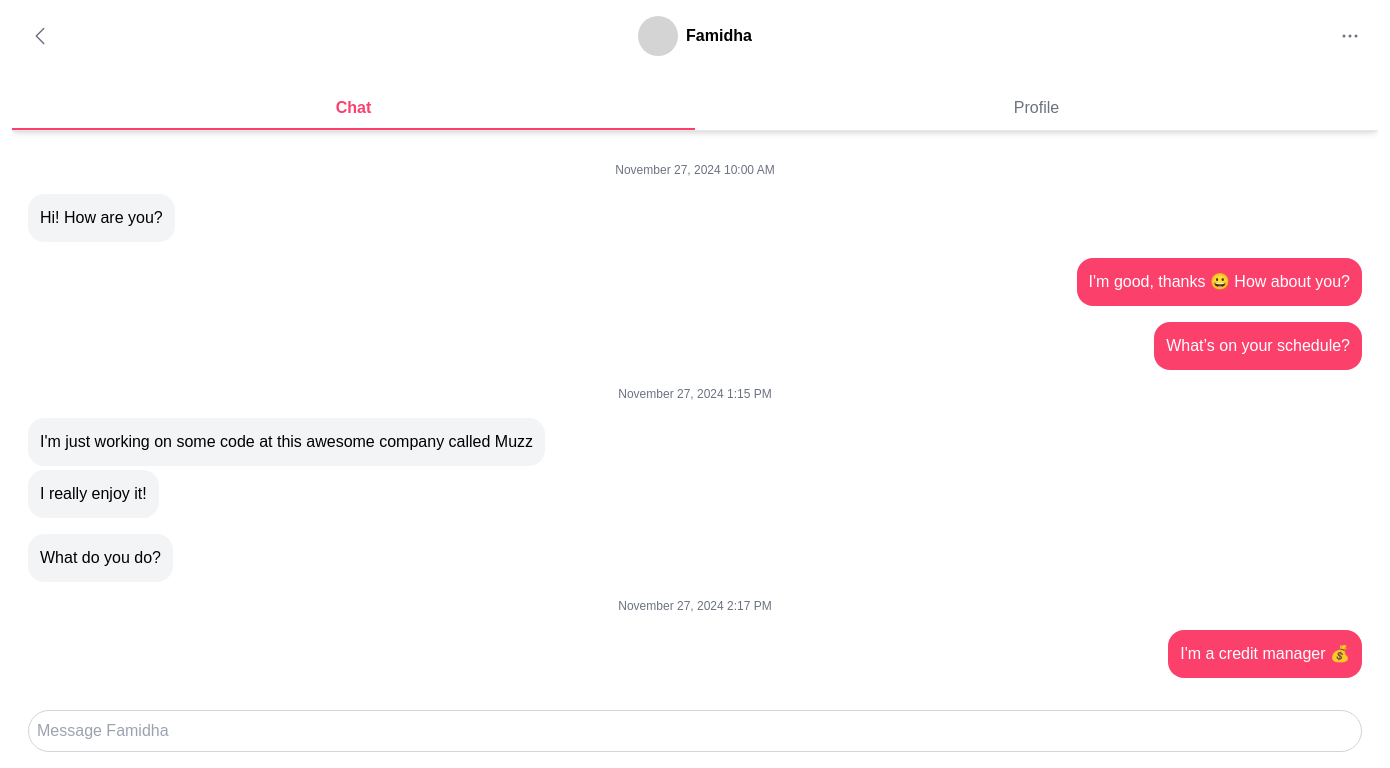
Chat page › should allow the user and receiver to send messages
(page scrolled)
In the field with placeholder "Message Famidha": (695, 731) [28,710,1362,752], type "Hello!"
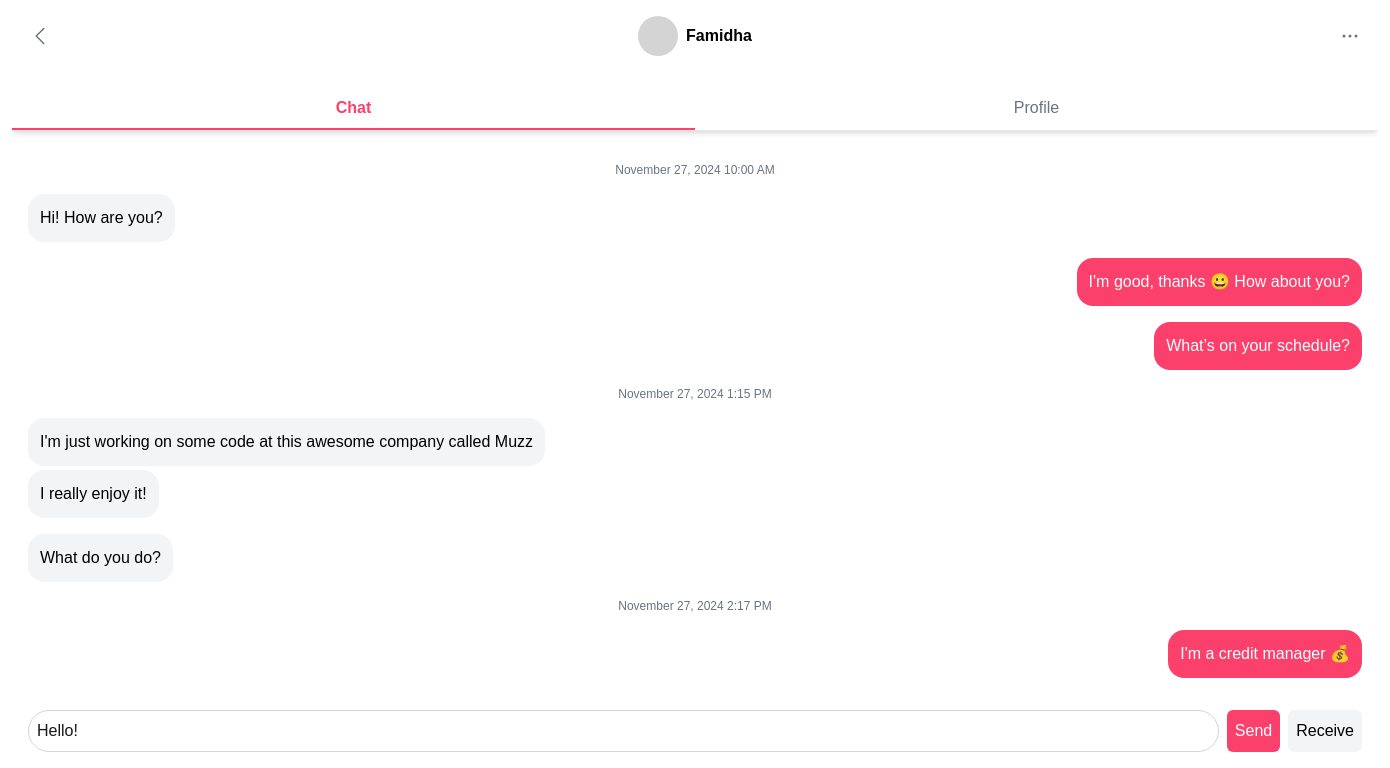
Click the button "Send": (1254, 731) [1227,710,1280,752]
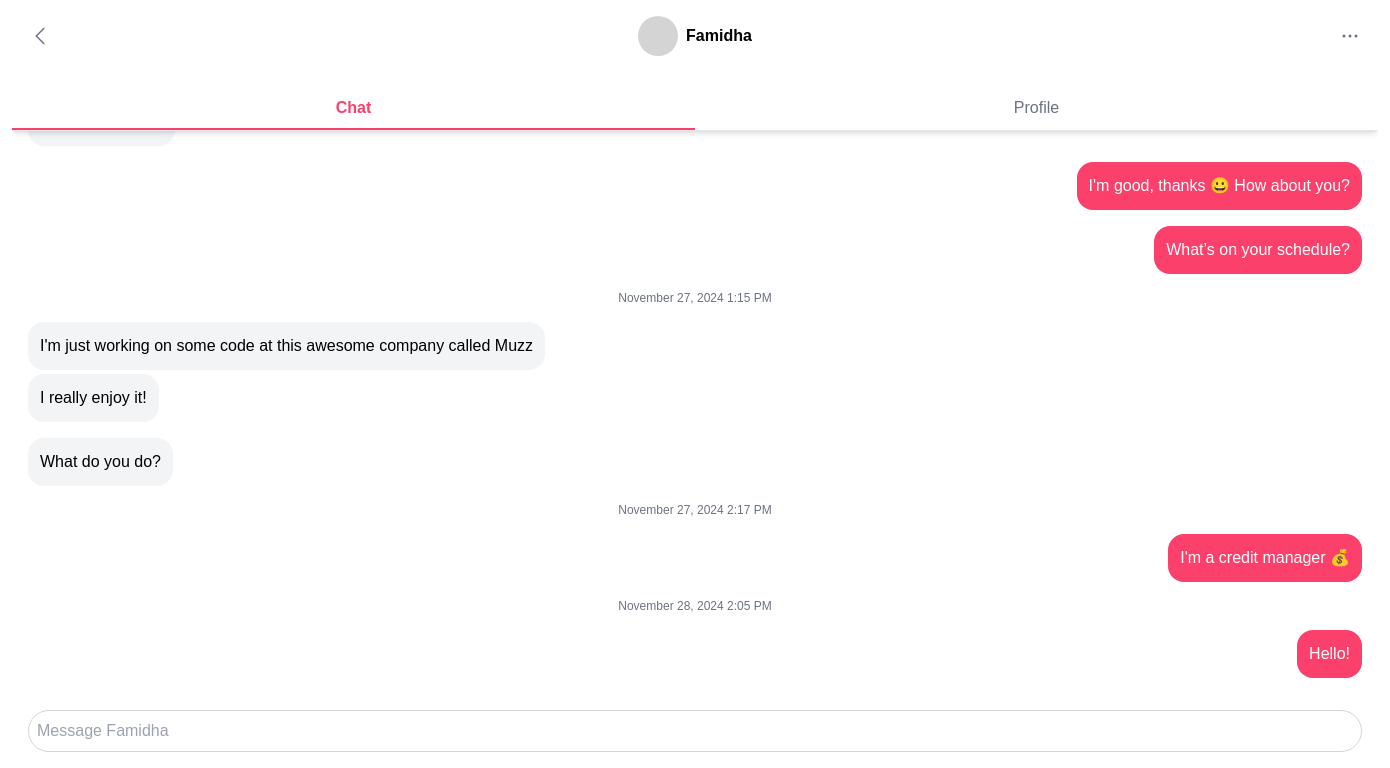
expect the text "Hello!" is shown: met, box [1309,642,1350,666]
expect the field with placeholder "Message Famidha" is empty: met
In the field with placeholder "Message Famidha": (695, 731) [28,710,1362,752], type "hello from Famidha! 😀"
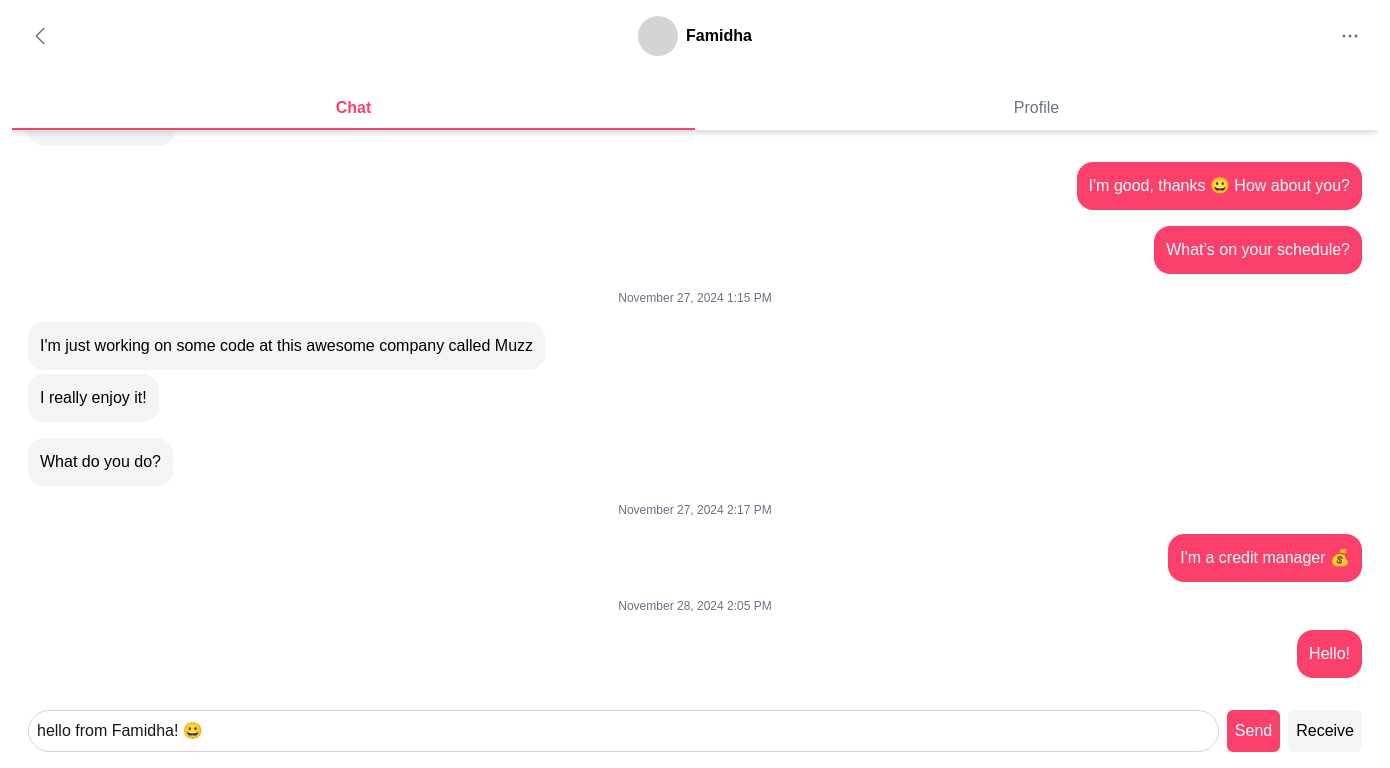
Click the button "Receive": (1325, 731) [1288,710,1362,752]
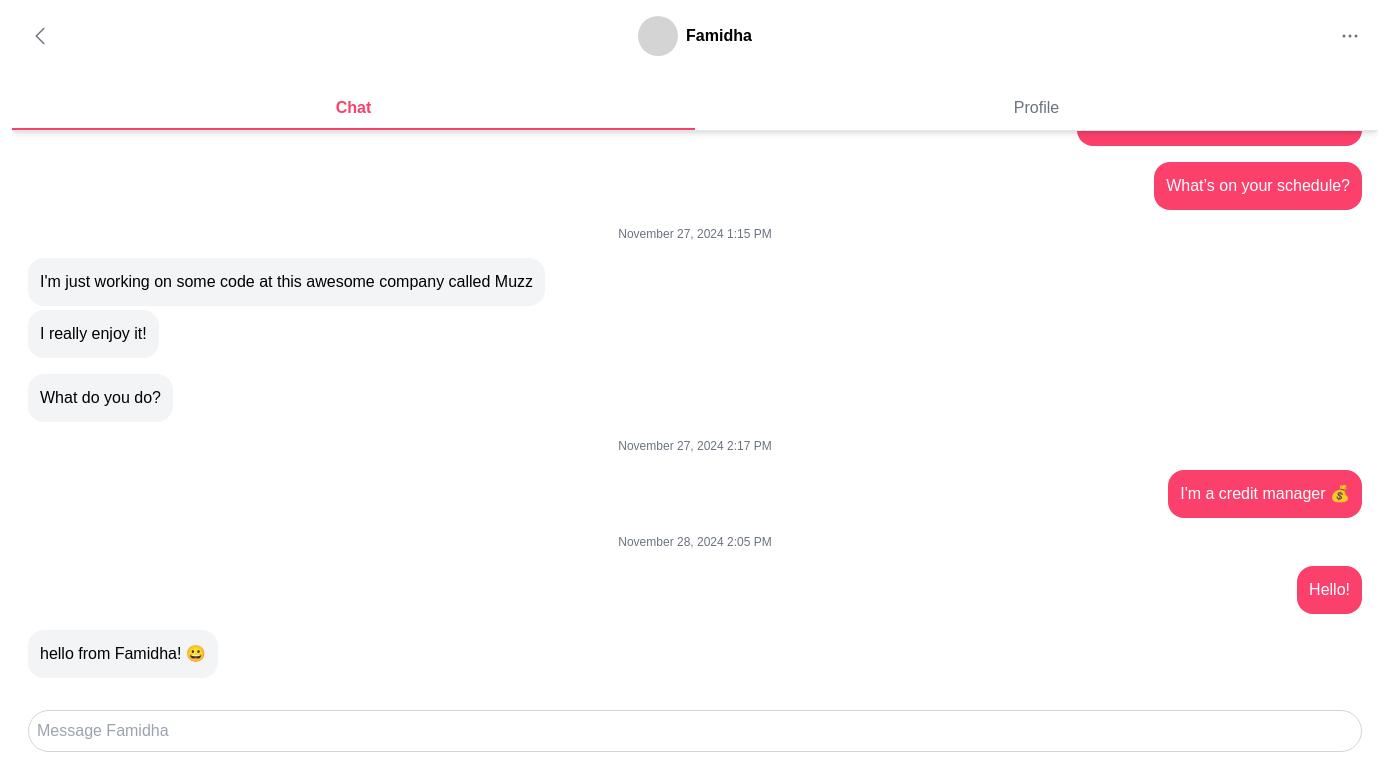
expect the text "hello from Famidha! 😀" is shown: met, box [40,642,206,666]
expect the field with placeholder "Message Famidha" is empty: met, box [28,710,1362,752]
